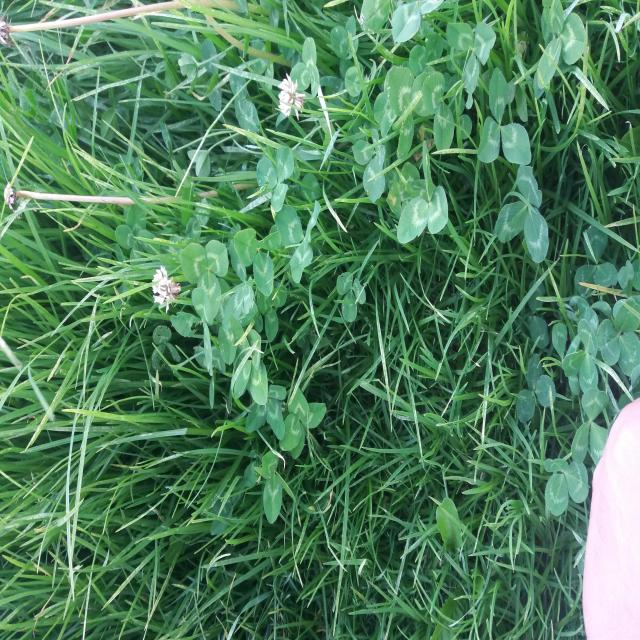Four Leaf Clover: (229, 312, 268, 406), (279, 387, 326, 459), (115, 203, 160, 266)
